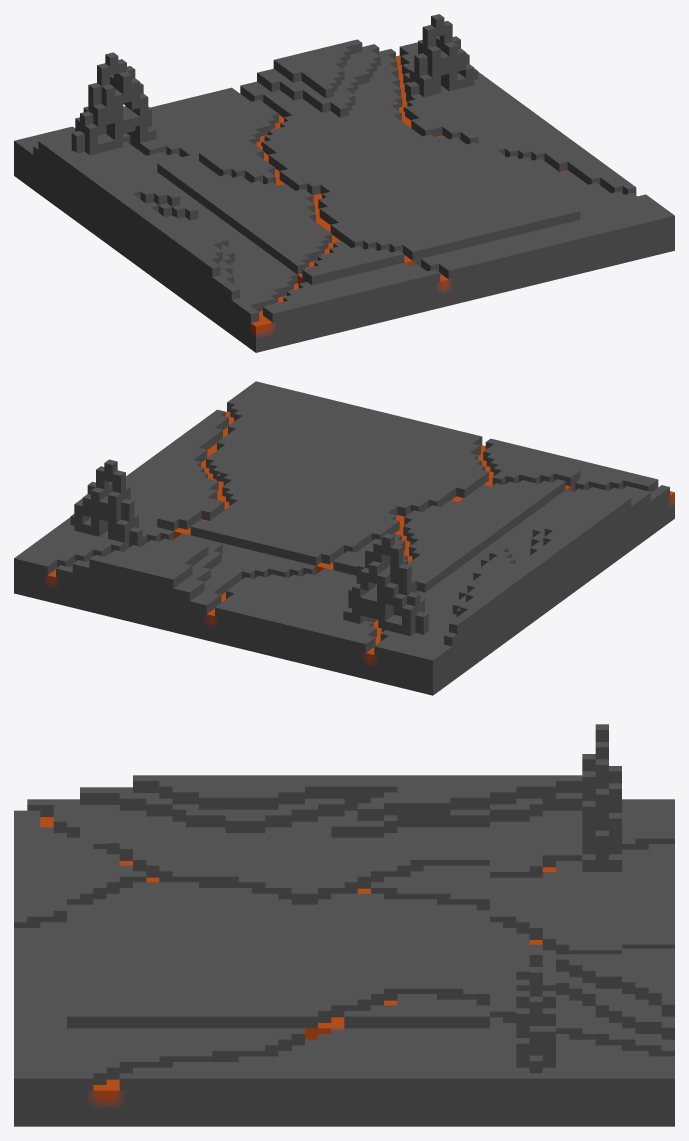
Rendered from Mini_World_Vulcano.fbx.
3 renders of one model, top to bottom at view 1: azimuth 30°, elevation 25°; view 2: azimuth 150°, elevation 25°; view 3: azimuth 270°, elevation 25°, orthographic. The views are drawn at different scales.
Parts seen in each view (by area): view 1: Union; view 2: Union; view 3: Union.
Part boxes in pixels (bbox=[...]): Union: bbox=[14, 14, 674, 352]; Union: bbox=[14, 381, 674, 695]; Union: bbox=[14, 724, 674, 1126].
Size of the model in its own units: 50 by 14 by 50.
